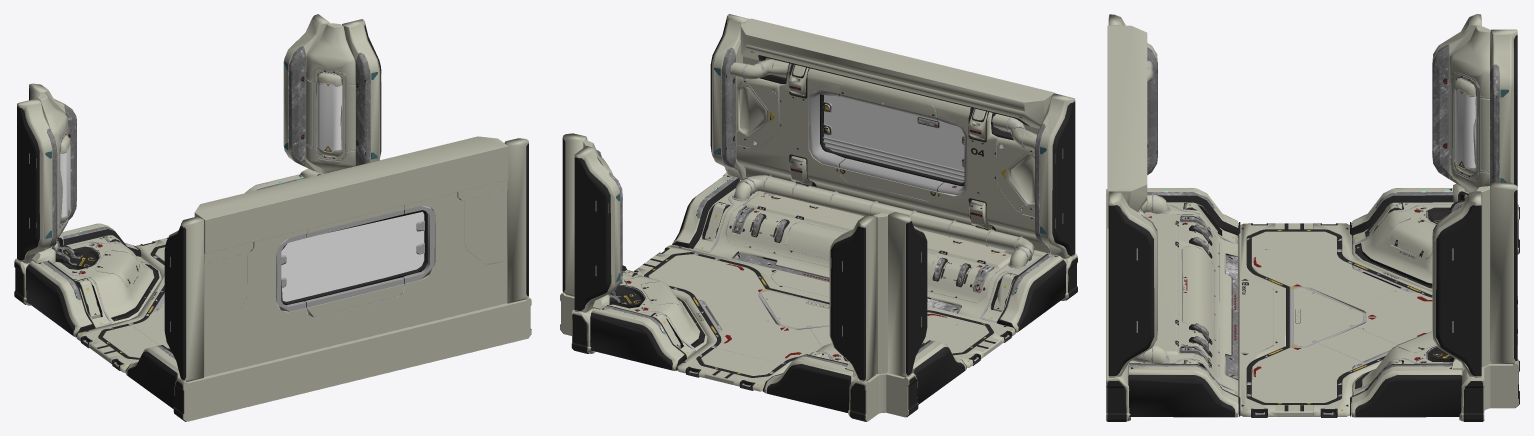
File: corridor_window.glb
The picture shows the model from 3 angles, left to right: view 1: azimuth 30°, elevation 25°; view 2: azimuth 150°, elevation 25°; view 3: azimuth 270°, elevation 25°; orthographic projection. The views are drawn at different scales.
Parts seen in each view (by area): view 1: Corridor_window; view 2: Corridor_window; view 3: Corridor_window.
Boxes of the visible parts, x1,y1,x2,y2 form: Corridor_window: (14, 14, 531, 421); Corridor_window: (560, 14, 1077, 421); Corridor_window: (1106, 14, 1519, 421).
Size of the model in its own units: 5.3 by 2.86 by 4.86.
Materials: 11 (1 with a texture image).
